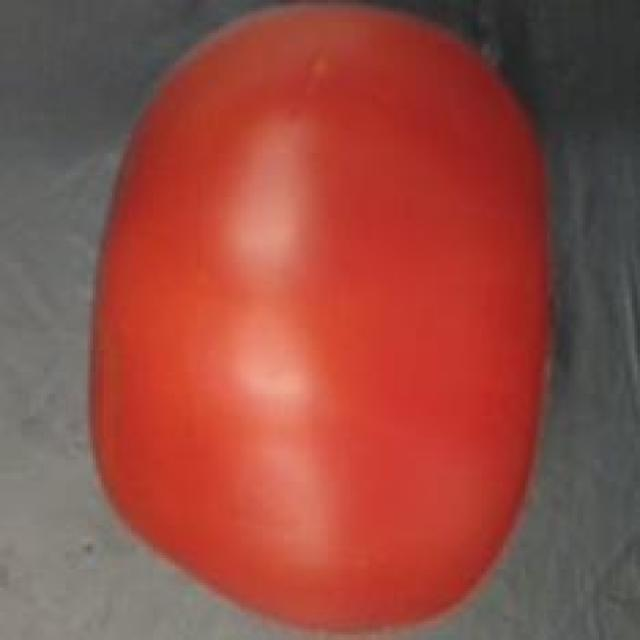ripe tomato: (80, 0, 574, 640)
